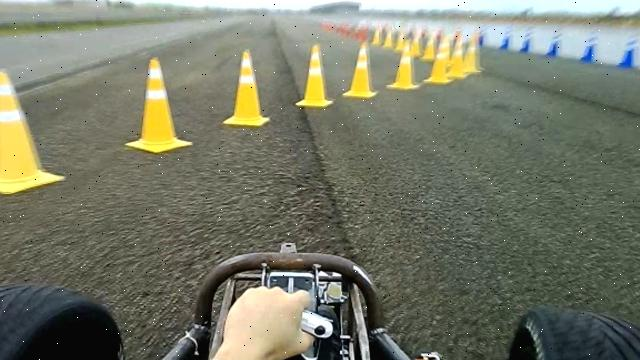yellow cone: (0, 69, 66, 195), (125, 57, 193, 154), (222, 49, 270, 127), (295, 44, 334, 108), (342, 42, 379, 99), (386, 44, 420, 90)
